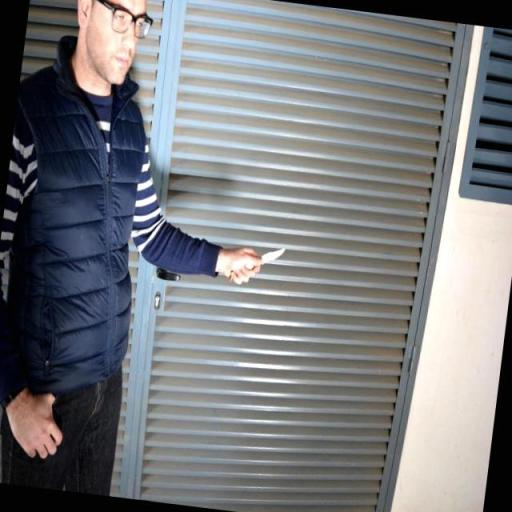knife: (226, 238, 288, 290)
